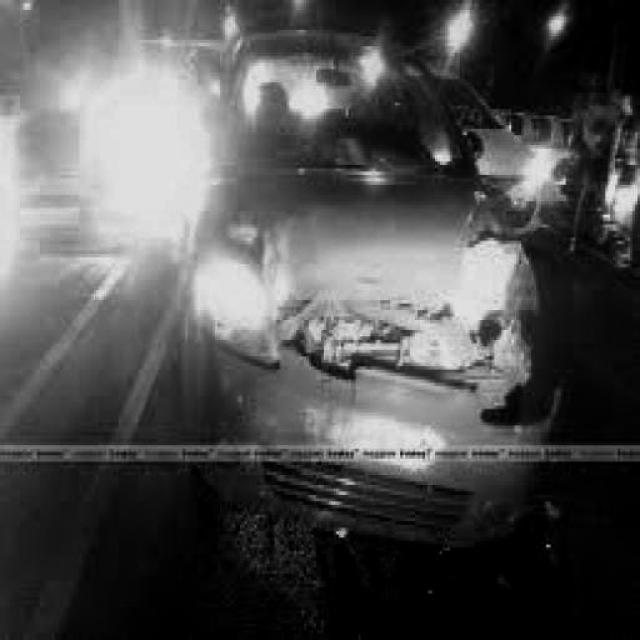car damage: (178, 202, 541, 544)
